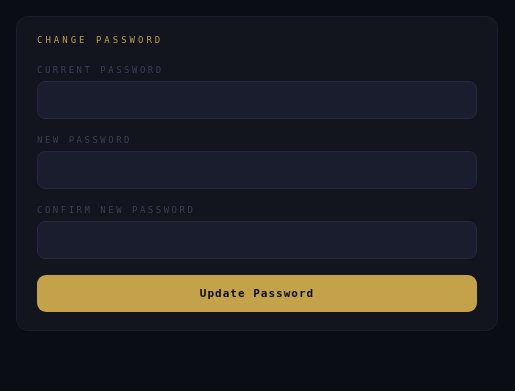
Test: shows error when passwords do not match
Type "currentpass" into the password field labelled "Current Password" at (257, 100), box [37, 81, 477, 119]
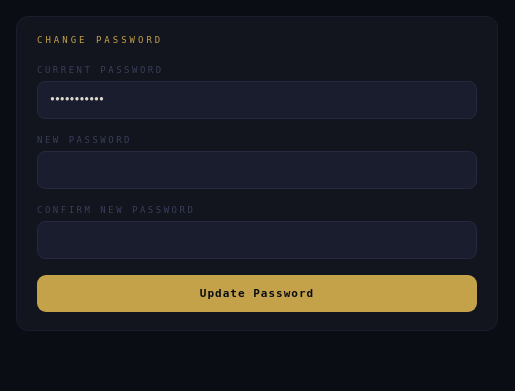
Type "newpassword1" into the password field labelled "New Password" at (257, 170), box [37, 151, 477, 189]
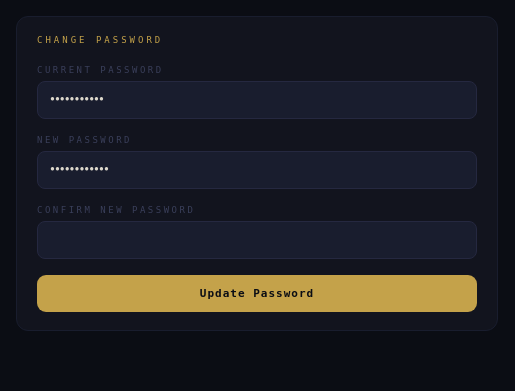
Type "different123" into the password field labelled "Confirm New Password" at (257, 240), box [37, 221, 477, 259]
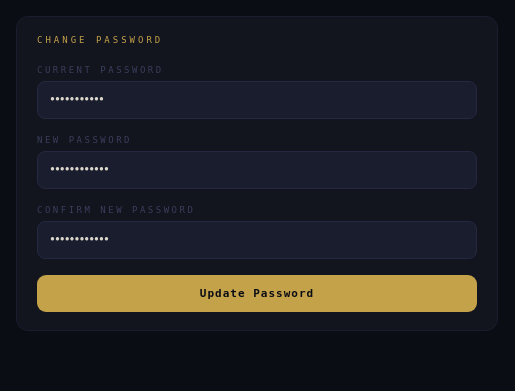
Click the button "Update Password" at (257, 294), box [37, 275, 477, 312]
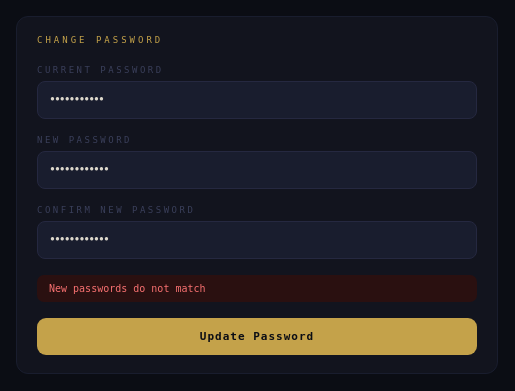
Result: the message shows "do not match" at [49, 283, 206, 294]
